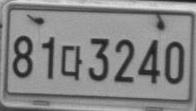0: (164, 40, 185, 85)
1: (38, 36, 59, 79)
2: (114, 38, 134, 82)
3: (88, 37, 109, 81)
4: (137, 39, 161, 84)
8: (11, 34, 33, 78)
다: (61, 44, 83, 80)
